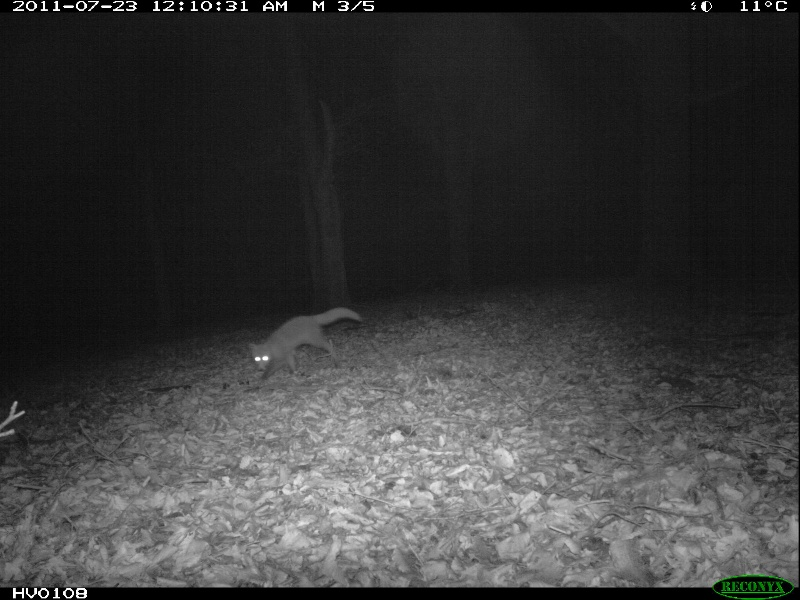fox: (248, 305, 367, 390)
